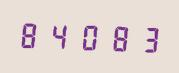eight: (18, 17, 45, 51), (102, 20, 129, 54)
four: (46, 18, 73, 52)
three: (130, 21, 157, 55)
zero: (74, 19, 101, 53)
